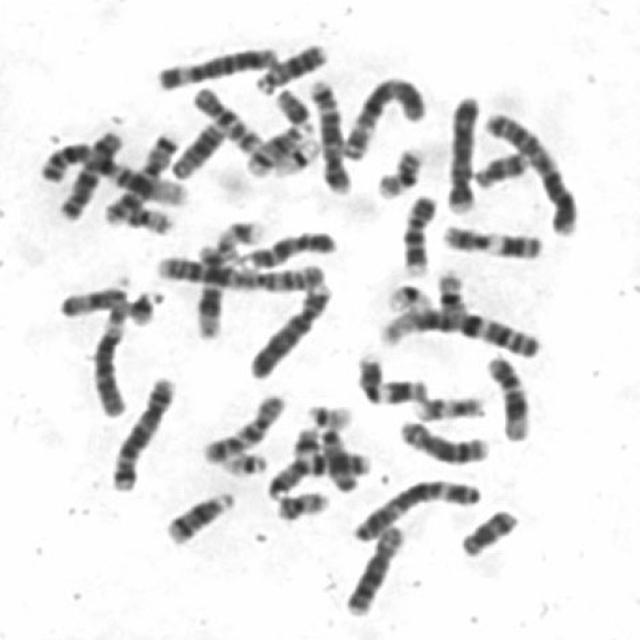A1: (31, 140, 190, 207), (374, 303, 543, 359)
A2: (482, 108, 578, 237), (150, 252, 328, 292)
A3: (348, 474, 483, 543), (339, 74, 427, 160)
B4: (244, 279, 334, 382), (442, 90, 482, 214)
B5: (106, 372, 178, 492), (304, 79, 358, 190)
C10: (198, 390, 288, 465), (187, 83, 263, 155)
C11: (352, 349, 429, 407), (436, 221, 544, 261)
C12: (192, 242, 240, 341), (482, 352, 531, 442)
C6: (153, 42, 278, 92), (89, 316, 128, 417)
C7: (100, 129, 182, 227), (262, 446, 371, 501)
C8: (339, 522, 406, 618), (394, 415, 490, 466)
C9: (203, 235, 347, 272), (397, 191, 438, 278)
D13: (251, 40, 328, 96), (165, 118, 229, 180)
D14: (161, 487, 236, 545), (243, 120, 308, 178)
D15: (54, 275, 132, 319), (318, 425, 359, 494)
E16: (373, 142, 427, 200), (435, 272, 468, 338)
E17: (209, 220, 267, 270), (411, 392, 486, 422)
E18: (456, 504, 520, 558), (470, 148, 532, 190)
F19: (270, 134, 322, 178), (383, 279, 432, 315)
F20: (119, 198, 174, 237), (272, 488, 330, 522)
G21: (126, 287, 165, 327), (289, 422, 322, 460)
G22: (218, 446, 269, 477), (303, 399, 353, 429)
X: (53, 129, 124, 223)
Y: (272, 84, 315, 133)
